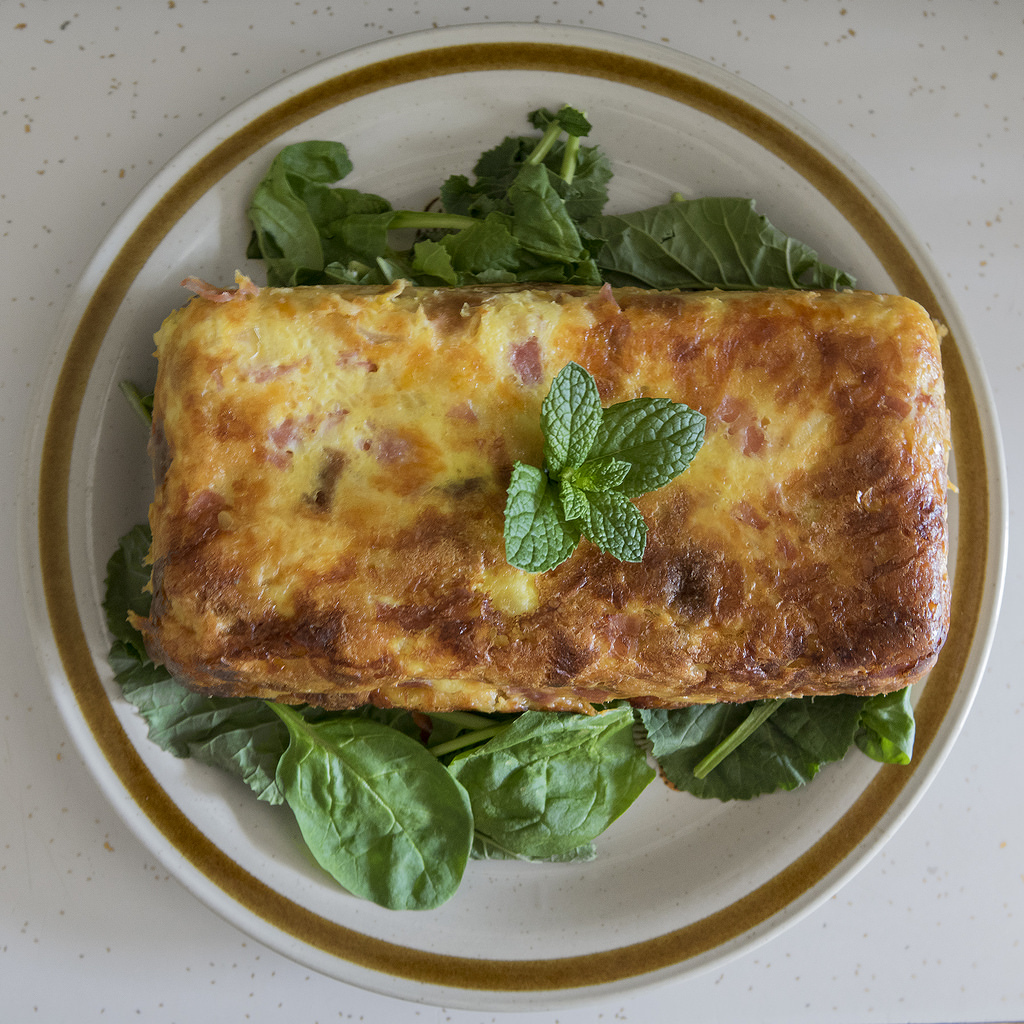chopped lettuce: (201, 714, 637, 863)
slice of bread: (193, 299, 942, 409)
